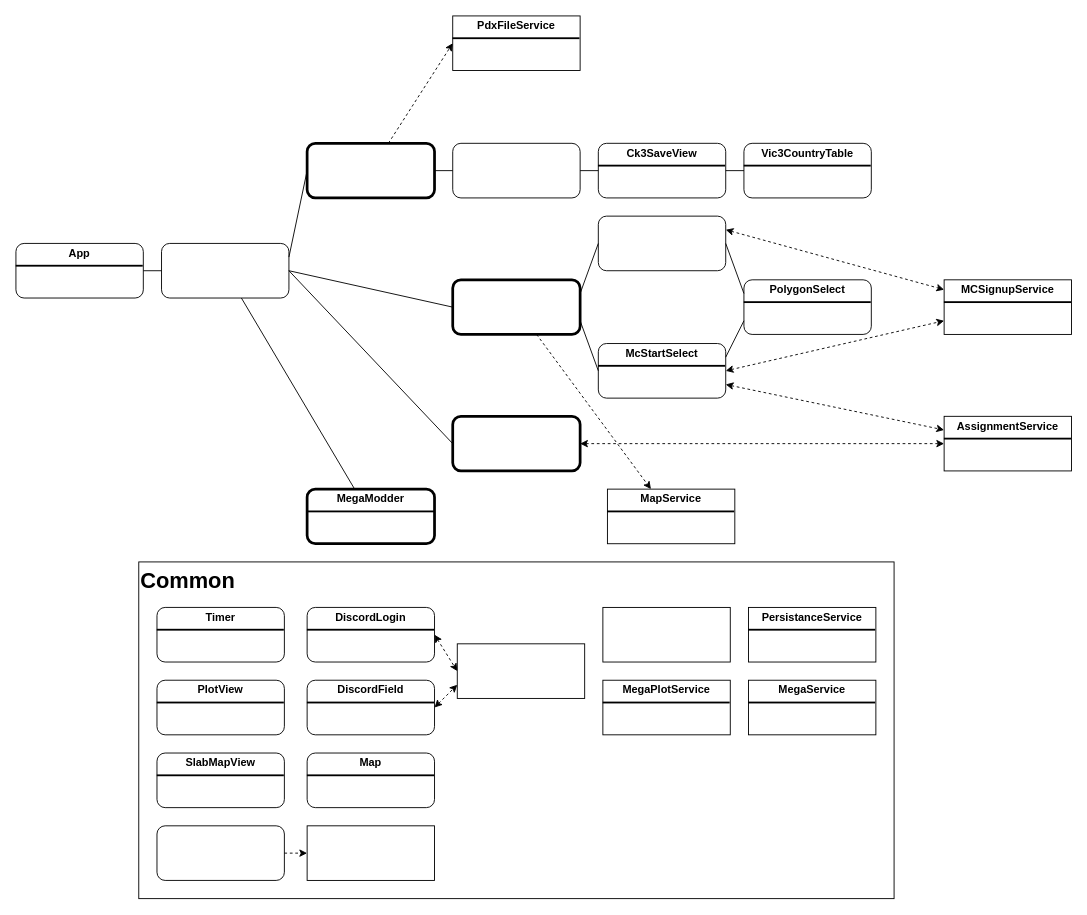
Some shapes in this 1087 by 915 pixel diagram are drawn without their labels. Each missing label, with the centre of its shape:
D3JsService: point 666,634
DiscordAuthService: point 520,670
LinePlotterService: point 370,852
Lineviewer: point 220,852
McAdmin: point 516,443
McSignup: point 661,243
MegaCampaign: point 516,306
Paradox: point 225,270
SaveView: point 516,170
SaveViewSplash: point 370,170
